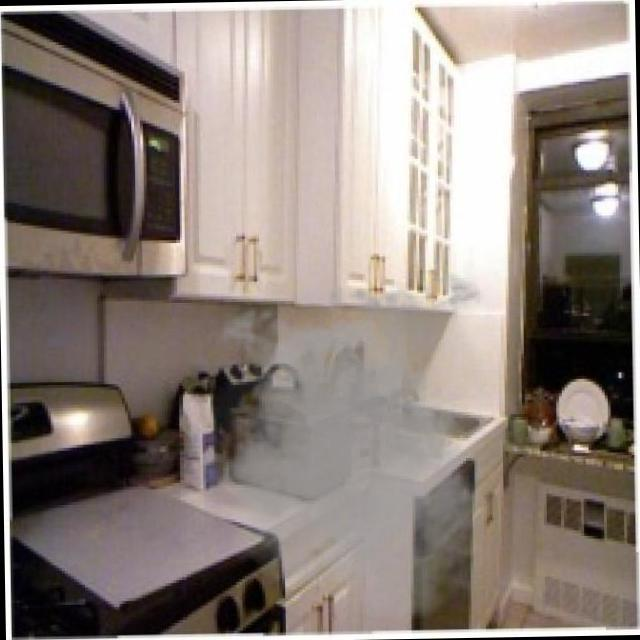Smoke: (165, 259, 542, 629)
